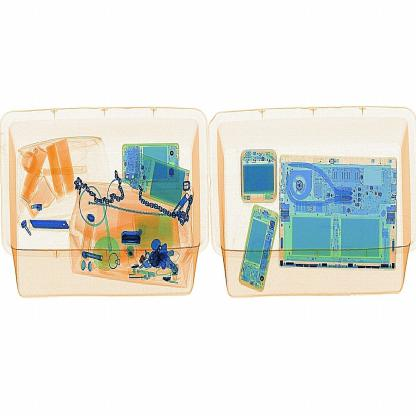pliers: (26, 212, 75, 241)
